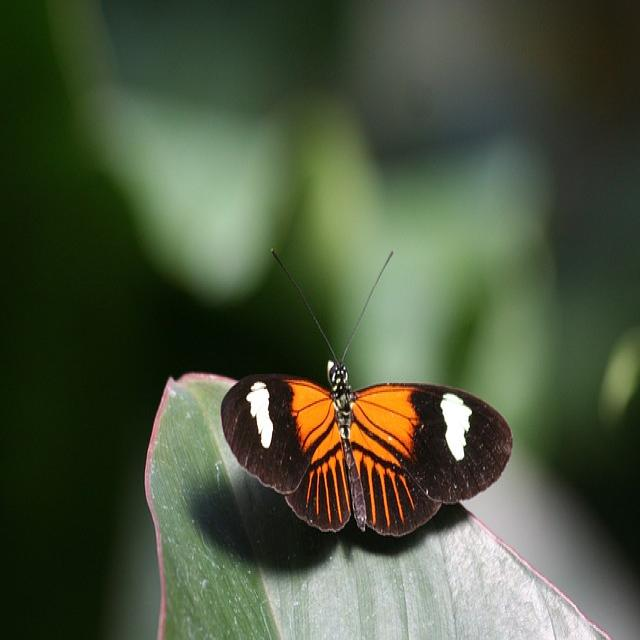butterfly: (216, 361, 514, 542)
